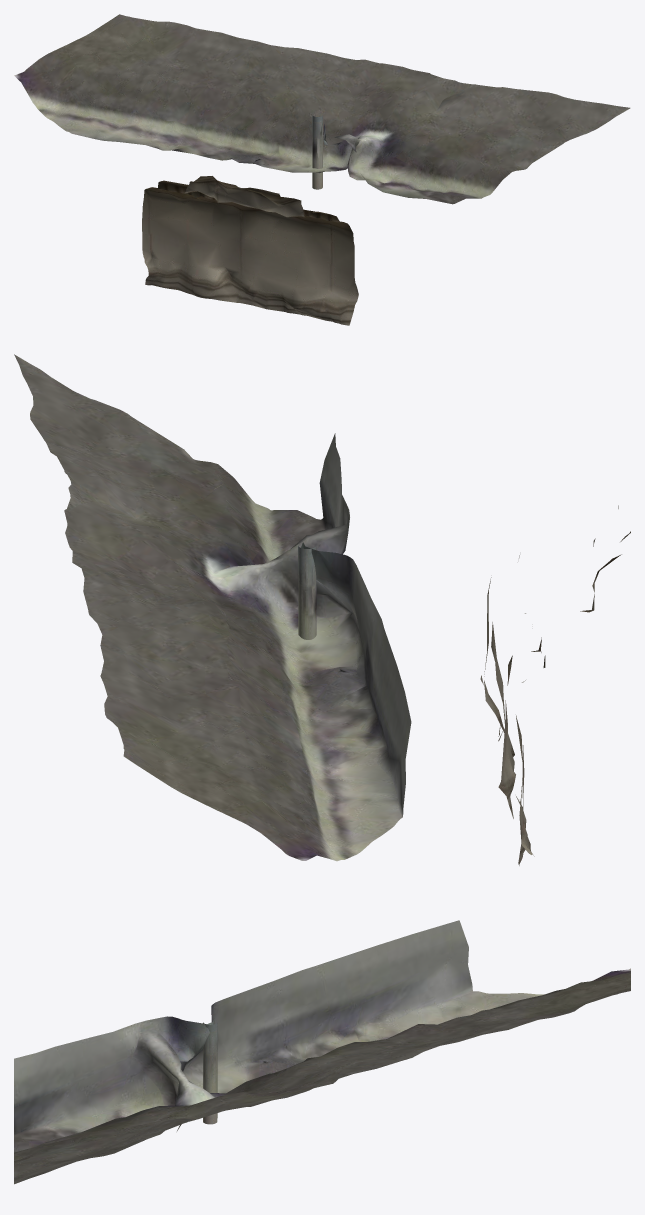
3 views of the same model, one above another, from view 1: azimuth 30°, elevation 25°; view 2: azimuth 150°, elevation 25°; view 3: azimuth 270°, elevation 25° (orthographic). The views are drawn at different scales.
Bounding box in the file's own units: 4.89 × 1.77 × 4.83.
Materials: 1 (1 with a texture image).
